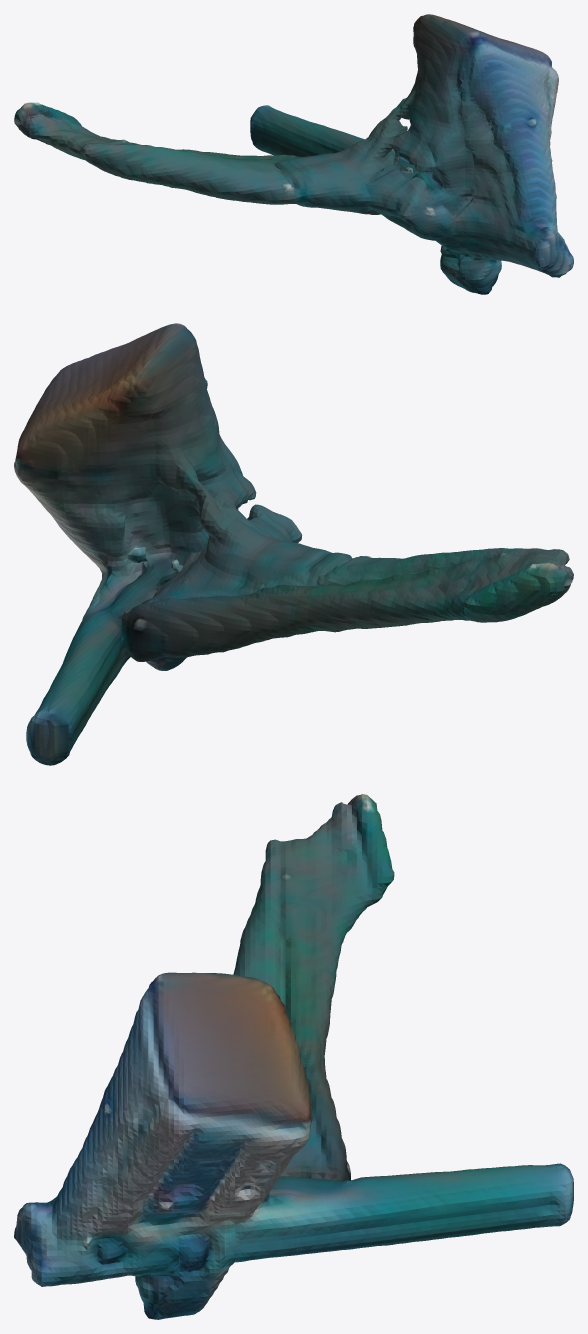
3 renders of one model, top to bottom at view 1: azimuth 30°, elevation 25°; view 2: azimuth 150°, elevation 25°; view 3: azimuth 270°, elevation 25°, orthographic. The views are drawn at different scales.
Size of the model in its own units: 0.9453 by 0.5014 by 0.7512.
